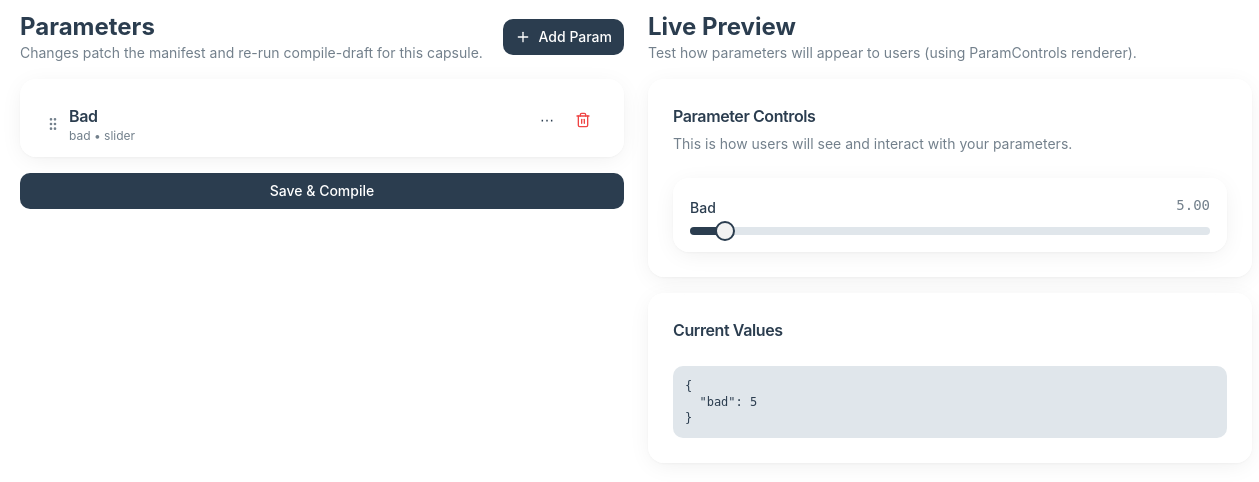
Test: ParamsTab › blocks save when params fail schema validation
What coordinates should you click on to do the following:
click the button "Save & Compile"
I would click on:
 (322, 191)
Its box is [20,173,624,209].
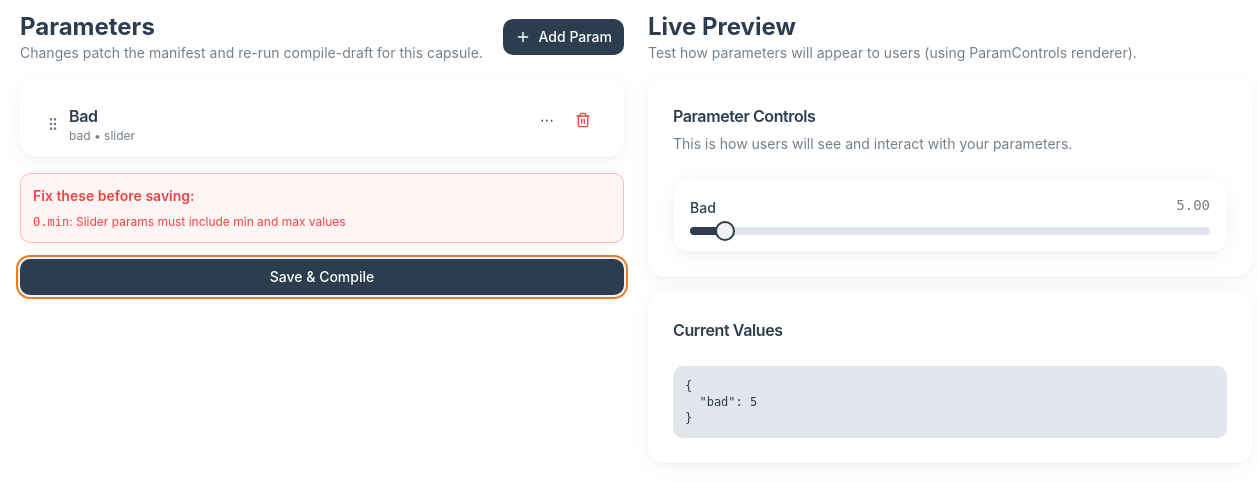
Check: the text "Fix these before saving:" is shown, box [33,187,195,204]
